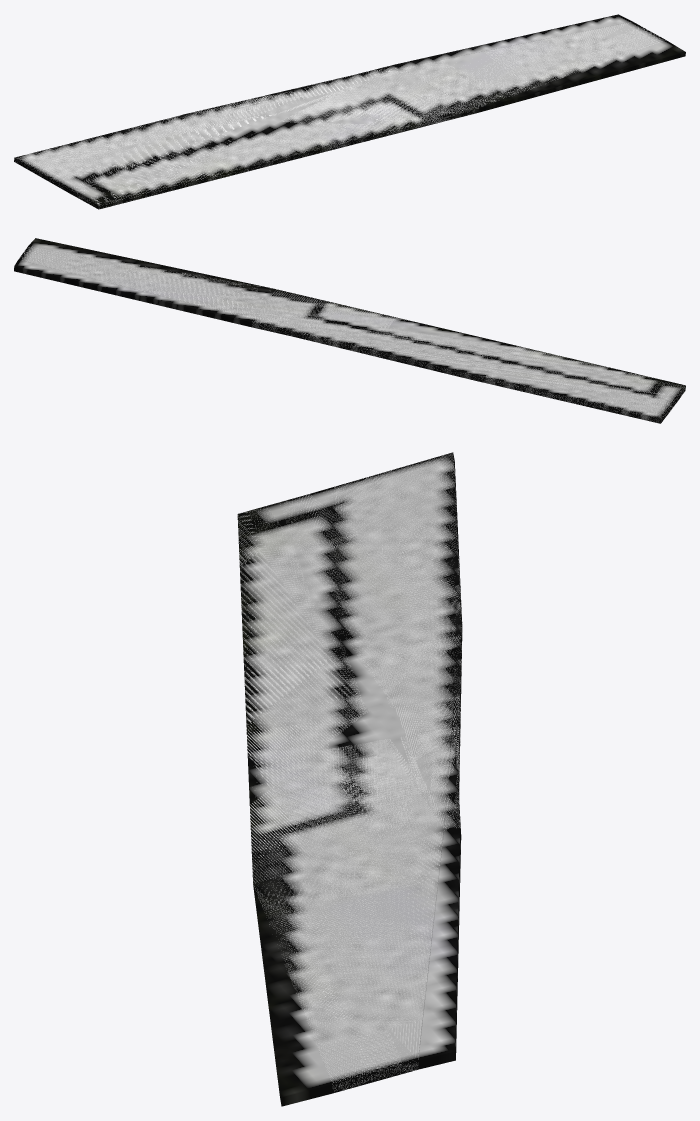
File: rightAileron.dae
The picture shows the model from 3 angles, top to bottom: view 1: azimuth 30°, elevation 25°; view 2: azimuth 150°, elevation 25°; view 3: azimuth 270°, elevation 25°; orthographic projection. The views are drawn at different scales.
Visible parts, largest first — view 1: SketchUp; view 2: SketchUp; view 3: SketchUp.
Part boxes in pixels (x1,y1,x2,y2): SketchUp: (14, 14, 685, 209); SketchUp: (14, 238, 685, 423); SketchUp: (237, 452, 462, 1106).
Size of the model in its own units: 170 by 26.38 by 5.34.
2 materials, 1 textured.
